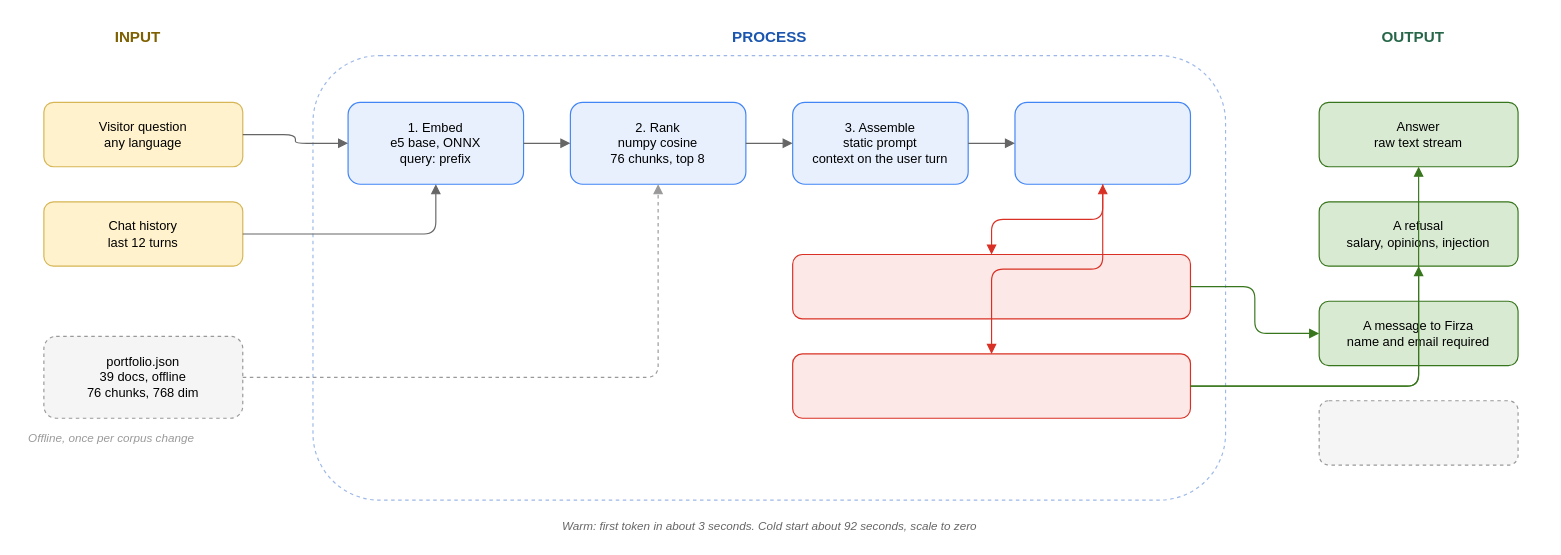
Image size: 1561x555. Some labels were removed from this diagram. The box of each missing label's shape, as (x1, y1, x2, y2) in pixels:
4. Generate Qwen3 8B, Ollama on the L4: (1014, 101, 1190, 184)
Guards, deterministic, in code tool name filter, send guard, confirmation guard: (792, 353, 1190, 418)
Logged per answer sources, scores, rounds, TTFT: (1318, 400, 1518, 465)
Tool loop, up to 2 rounds 6 tools, then one pass with tools withdrawn: (792, 253, 1190, 319)
